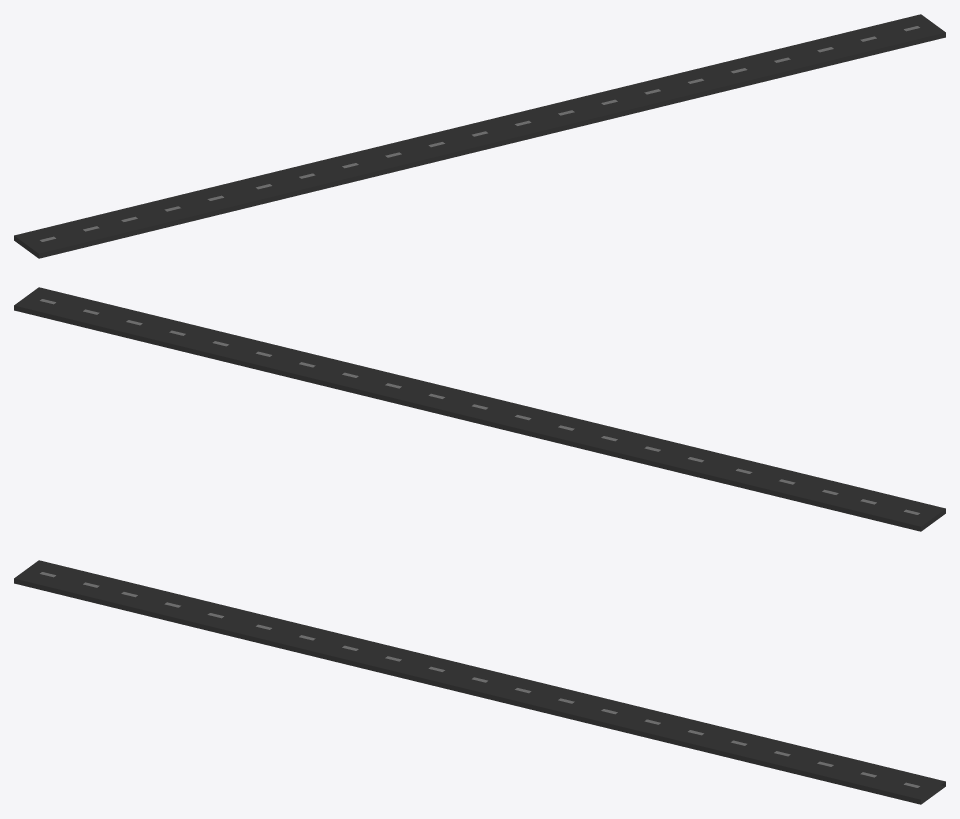
Rendered from road.glb.
3 renders of one model, top to bottom at view 1: azimuth 30°, elevation 25°; view 2: azimuth 150°, elevation 25°; view 3: azimuth 330°, elevation 25°, orthographic.
Parts seen in each view (by area): view 1: Куб.001; view 2: Куб.001; view 3: Куб.001.
Part boxes in pixels (x1,y1,x2,y2): Куб.001: (14,14,945,258); Куб.001: (14,287,945,531); Куб.001: (14,560,945,804).
Bounding box in the file's own units: 75.6 × 0.4 × 3.6.
Materials: 1 (1 with a texture image).
